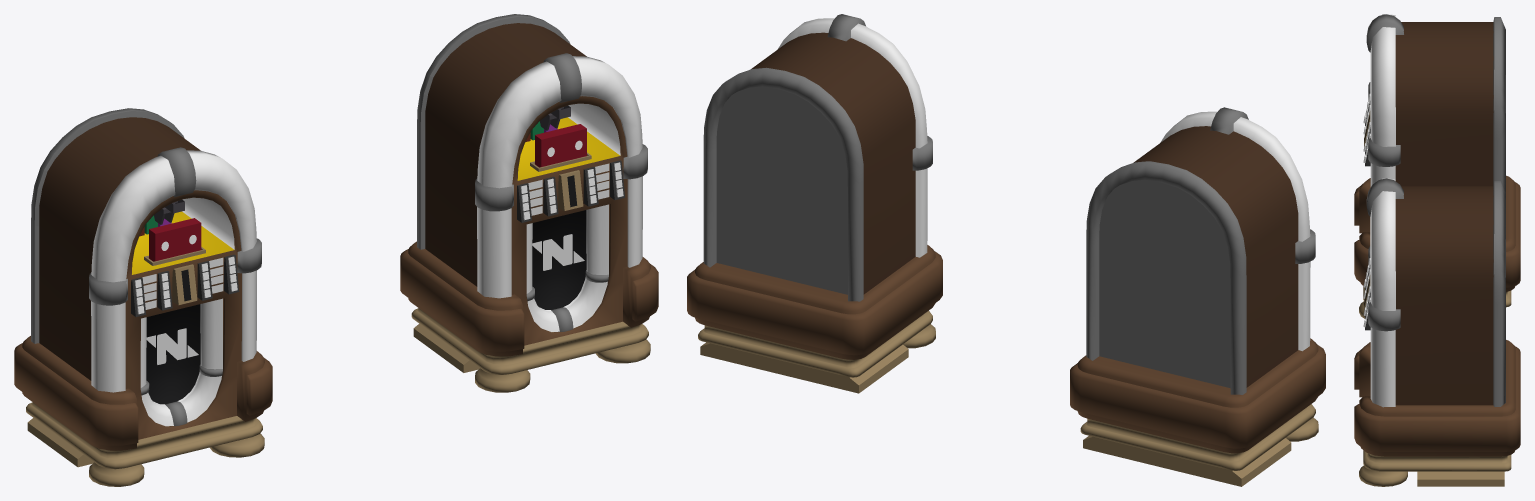
File: jukebox.fbx
3 views of the same model, side by side, from view 1: azimuth 30°, elevation 25°; view 2: azimuth 150°, elevation 25°; view 3: azimuth 270°, elevation 25° (orthographic). The views are drawn at different scales.
Visible parts, largest first — view 1: Jukebox red/green, Jukebox blue/green; view 2: Jukebox red/green, Jukebox blue/green; view 3: Jukebox blue/green, Jukebox red/green.
Boxes of the visible parts, <box> form: Jukebox red/green: <box>14,108,272,486</box>; Jukebox blue/green: <box>400,14,658,392</box>; Jukebox red/green: <box>1070,107,1325,486</box>; Jukebox blue/green: <box>687,14,942,393</box>; Jukebox blue/green: <box>1354,178,1520,486</box>; Jukebox red/green: <box>1354,14,1520,318</box>.
Size of the model in its own units: 2.94 by 1.53 by 0.857.
